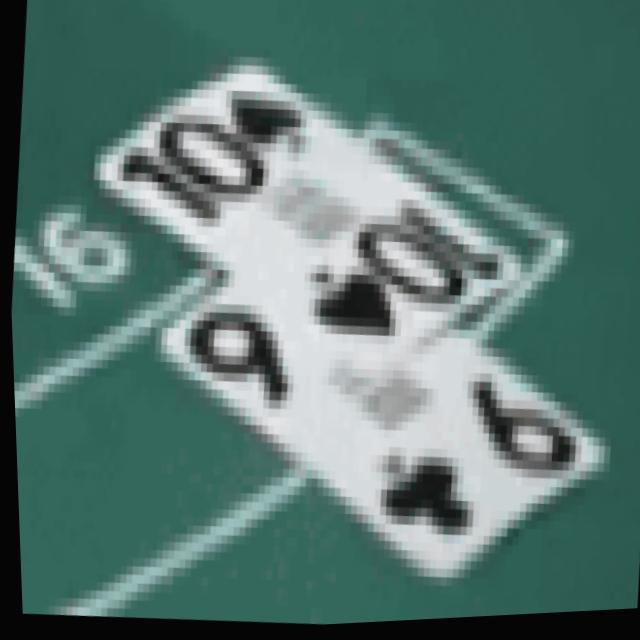Card-10: (92, 57, 521, 375)
Card-9: (160, 277, 605, 586)
